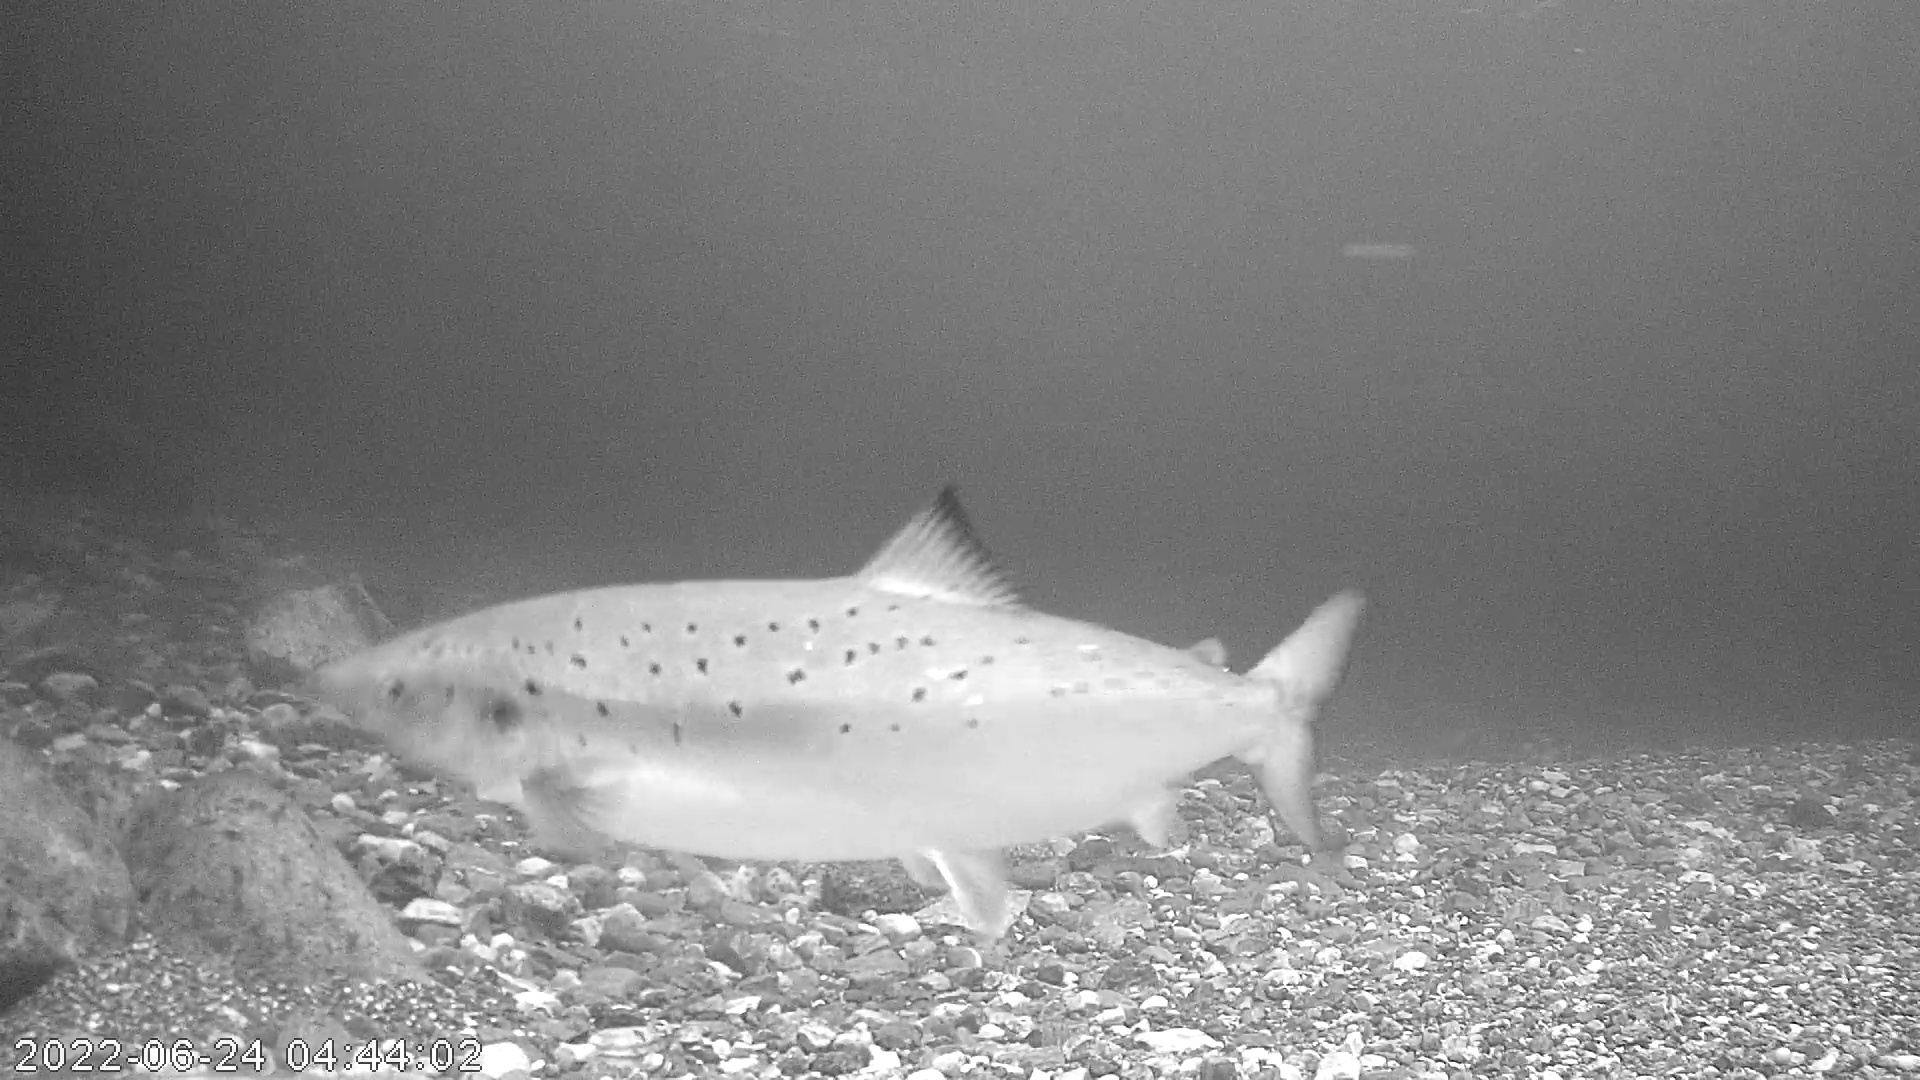salmon: (310, 480, 1367, 938)
